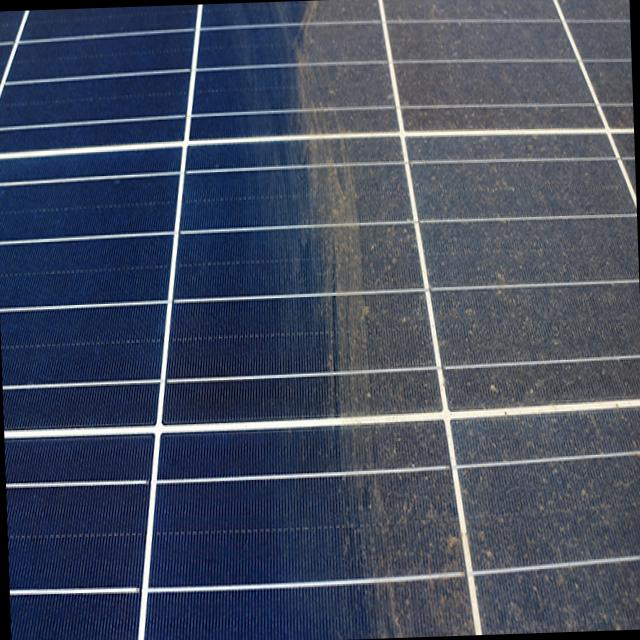faulty: (247, 0, 640, 640)
no faulty: (0, 9, 257, 640)
